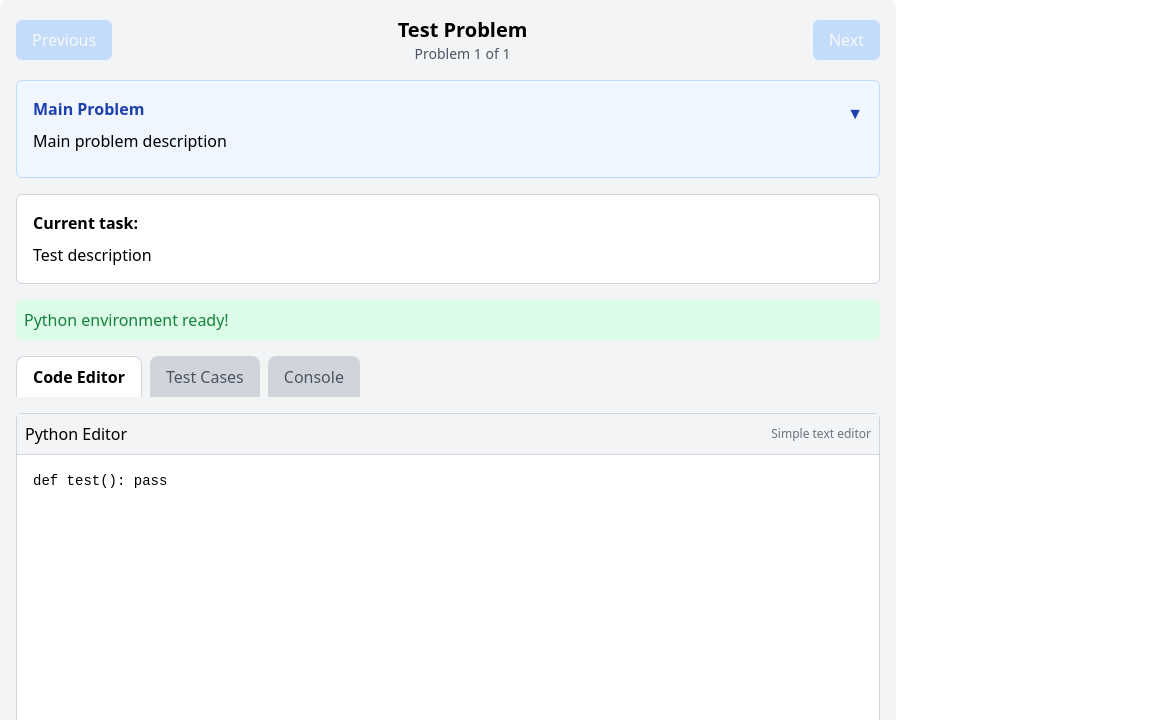
Test: PythonTestRunner › Python print statements are captured and displayed in the console output
Note: Go to console tab
Click the tab "Console" at (314, 376), box [268,356,360,397]
(page scrolled)
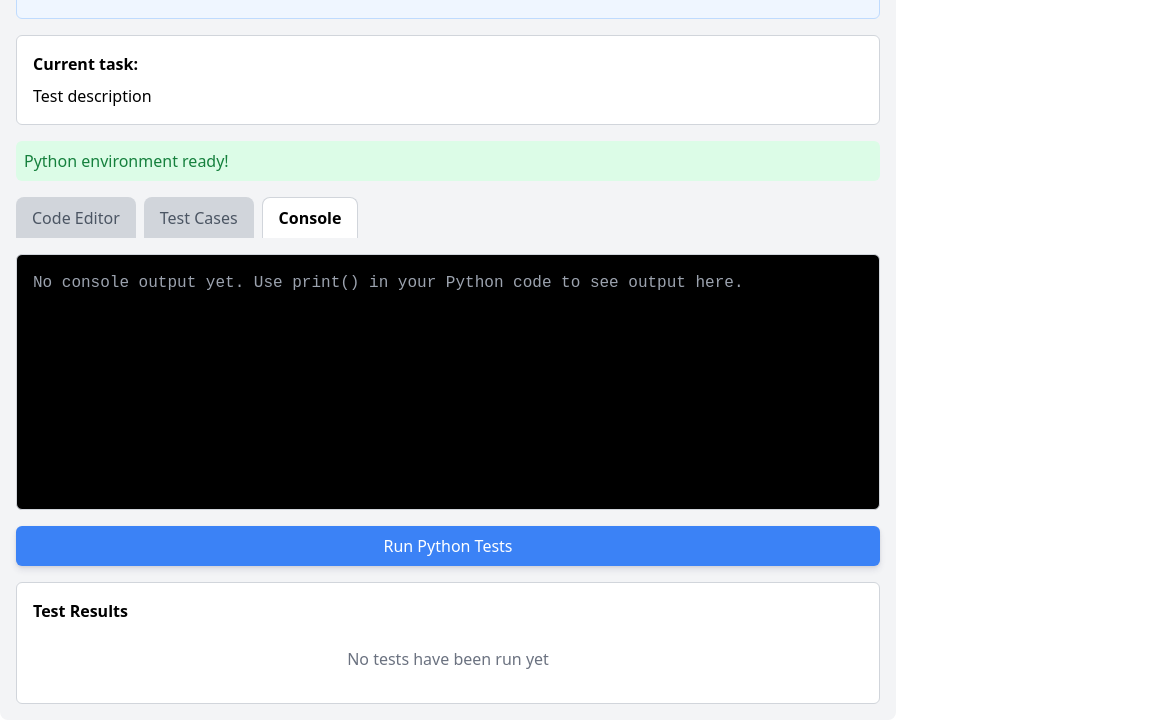
Note: Click the run tests button to execute Python code
Click the button "Run Python Tests" at (448, 546), box [16,526,880,566]
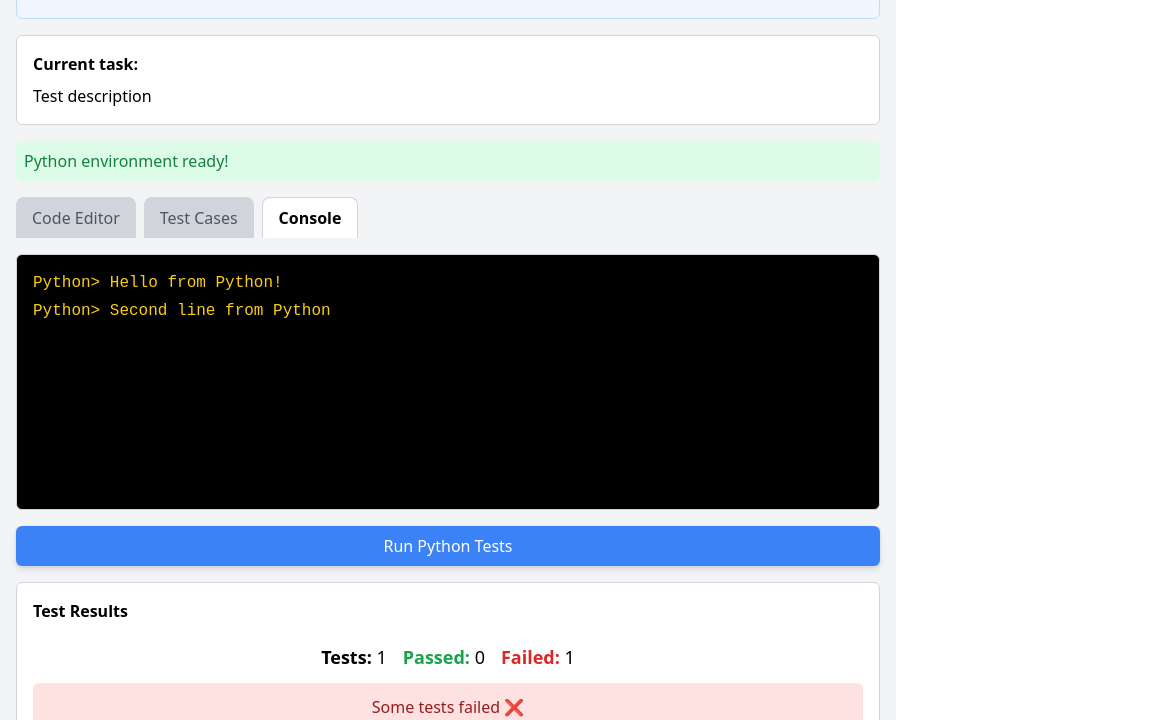
Now the panel named "console" shows "Python> Hello from Python!", box [33,274,283,292]
